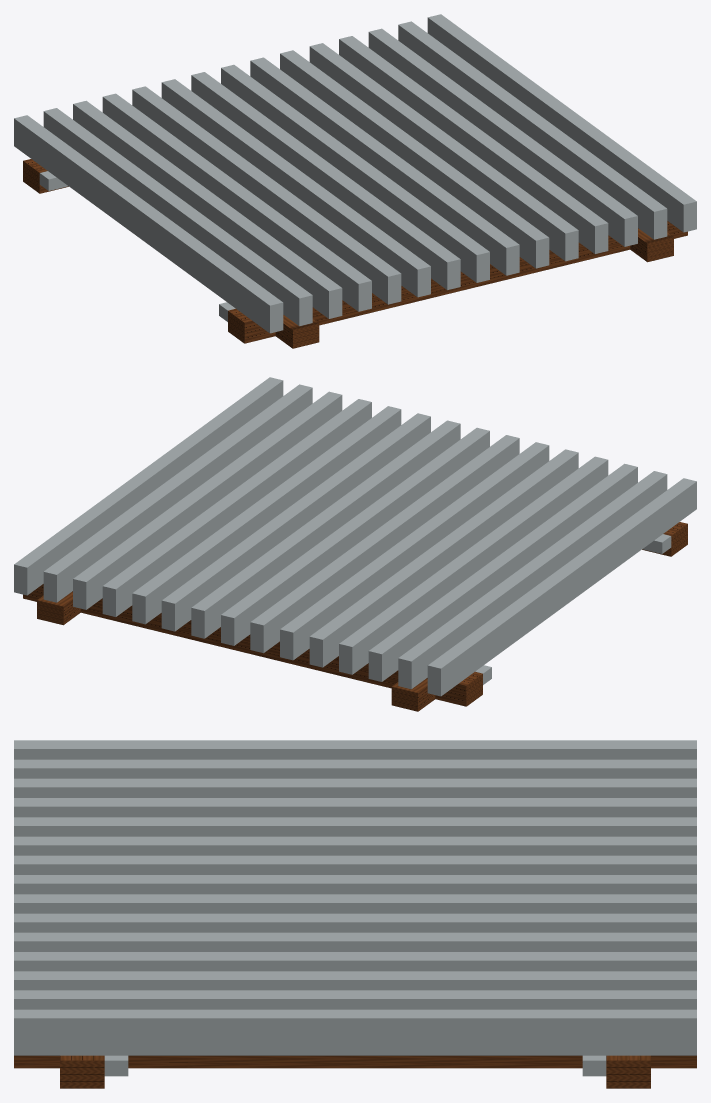
File: modular-survival-base-builder-grated-floor-reinforced-9782dcfc__24277.glb
3 renders of one model, top to bottom at view 1: azimuth 30°, elevation 25°; view 2: azimuth 150°, elevation 25°; view 3: azimuth 270°, elevation 25°, orthographic. The views are drawn at different scales.
Parts seen in each view (by area): view 1: grated-floor-reinforced; view 2: grated-floor-reinforced; view 3: grated-floor-reinforced.
Boxes of the visible parts, bbox=[...] form: grated-floor-reinforced: bbox=[14, 14, 696, 348]; grated-floor-reinforced: bbox=[14, 377, 696, 711]; grated-floor-reinforced: bbox=[14, 740, 696, 1088].
Size of the model in its own units: 2 by 0.21 by 2.
2 materials, 1 textured.
